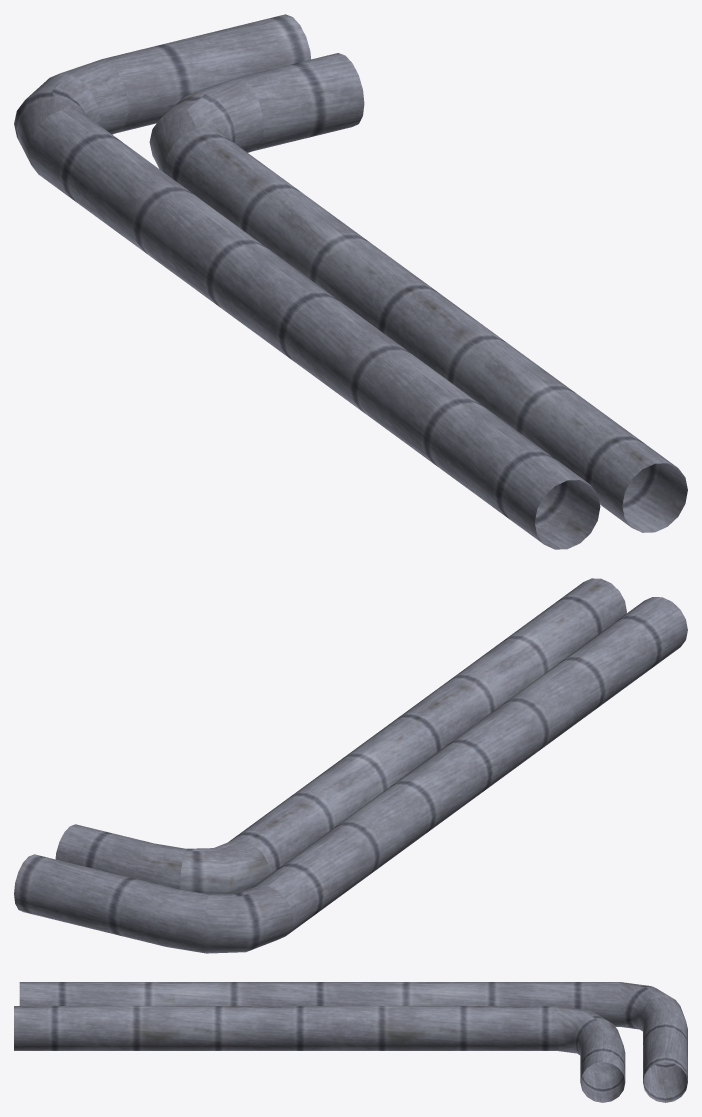
The model's file is Pipes_1.fbx.
3 renders of one model, top to bottom at view 1: azimuth 30°, elevation 25°; view 2: azimuth 150°, elevation 25°; view 3: azimuth 270°, elevation 25°, orthographic. The views are drawn at different scales.
Visible parts, largest first — view 1: Pipes1; view 2: Pipes1; view 3: Pipes1.
Boxes of the visible parts, x1=… form: Pipes1: x1=14, y1=14, x2=687, y2=549; Pipes1: x1=14, y1=578, x2=687, y2=953; Pipes1: x1=14, y1=982, x2=687, y2=1102.
Bounding box in the file's own units: 347 × 75.49 × 1130.
